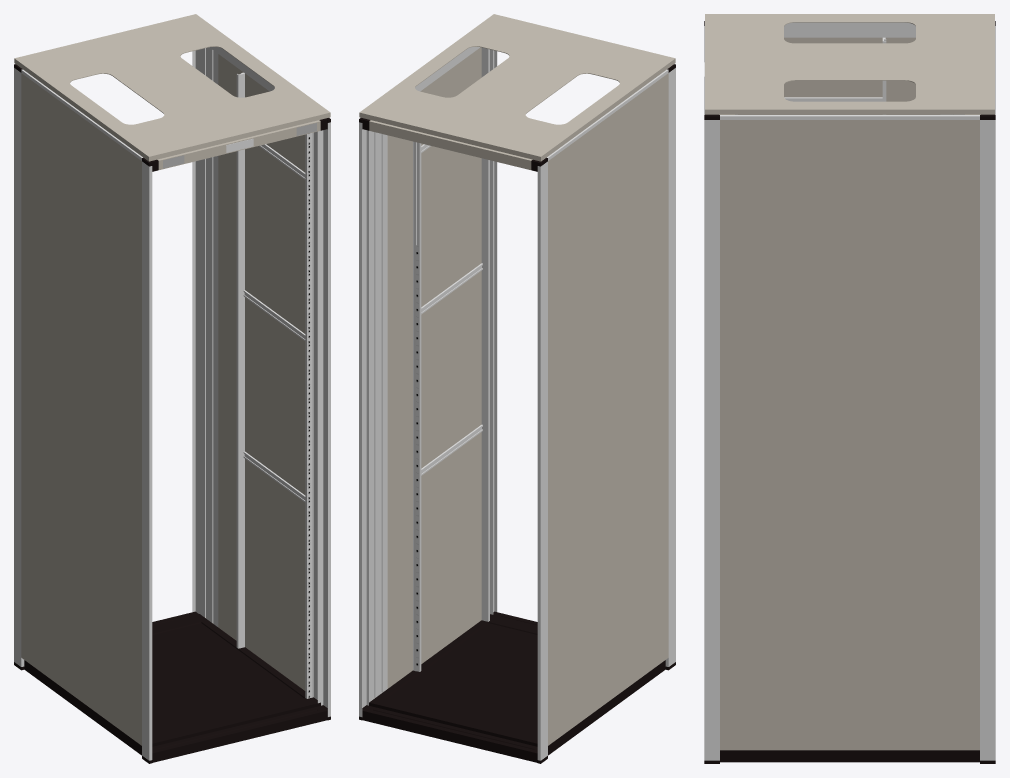
File: RACK_40U.glb
3 views of the same model, side by side, from view 1: azimuth 30°, elevation 25°; view 2: azimuth 150°, elevation 25°; view 3: azimuth 270°, elevation 25° (orthographic). The views are drawn at different scales.
Parts seen in each view (by area): view 1: Rack1(0B03)001, Rectangle049; view 2: Rack1(0B03)001, Rectangle049; view 3: Rack1(0B03)001, Rectangle049.
Boxes of the visible parts, x1,y1,x2,y2 form: Rack1(0B03)001: (14, 14, 330, 763); Rectangle049: (24, 611, 327, 762); Rack1(0B03)001: (359, 14, 675, 763); Rectangle049: (362, 611, 665, 762); Rack1(0B03)001: (704, 14, 995, 763); Rectangle049: (720, 750, 979, 762).
Bounding box in the file's own units: 0.6 × 1.92 × 0.773.
8 materials, 2 textured.
